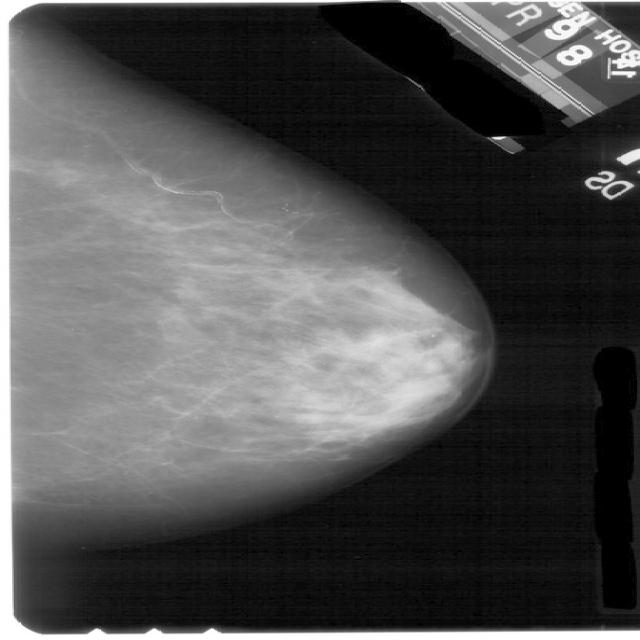tumour: (37, 158, 80, 186)
